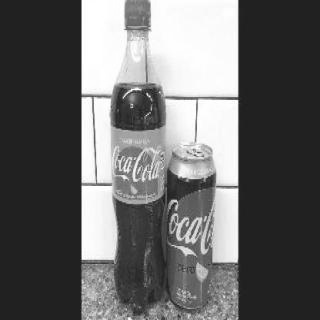alumunium_can: (166, 141, 217, 311)
plastic_bottles: (110, 0, 168, 314)
